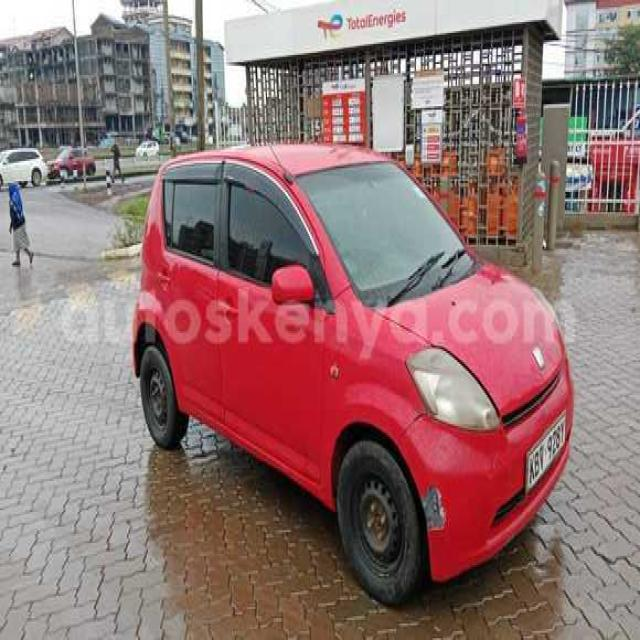red: (125, 123, 566, 597), (49, 143, 97, 190)
white: (0, 143, 49, 199)
